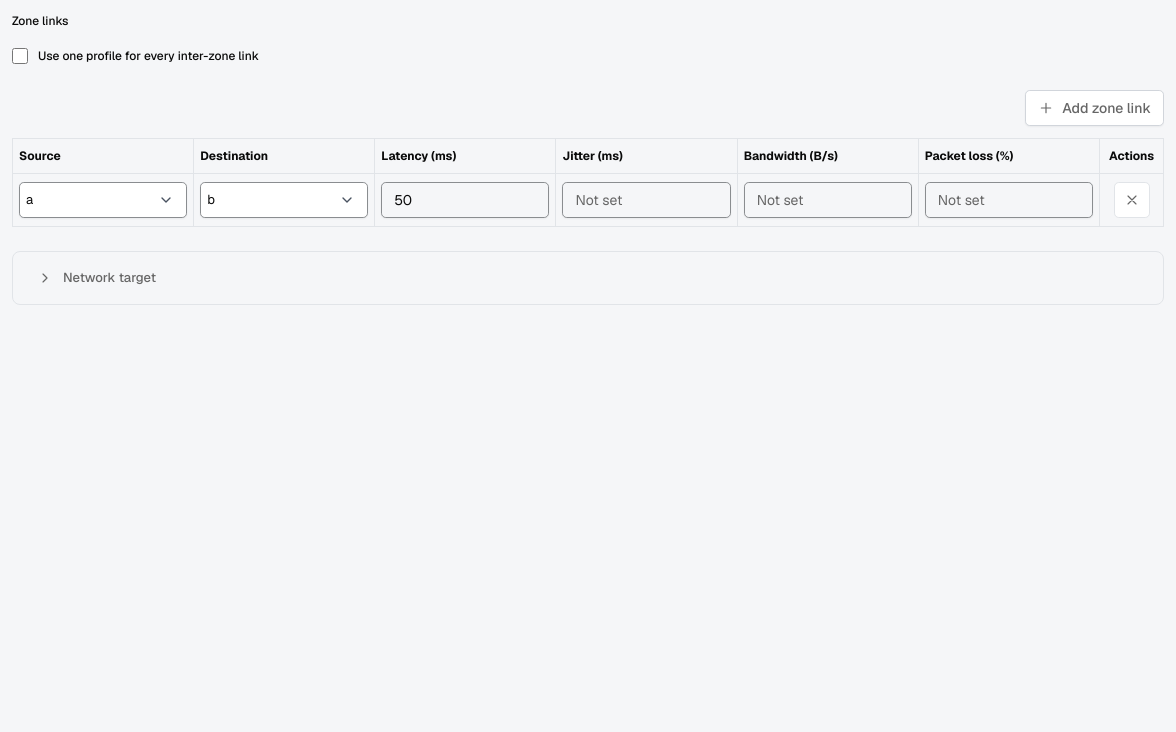
Test: places the host-network toggle in the shared disclosure and preserves its saved value
Click the heading "Network target". click: (96, 278)
box: [37,269,156,286]
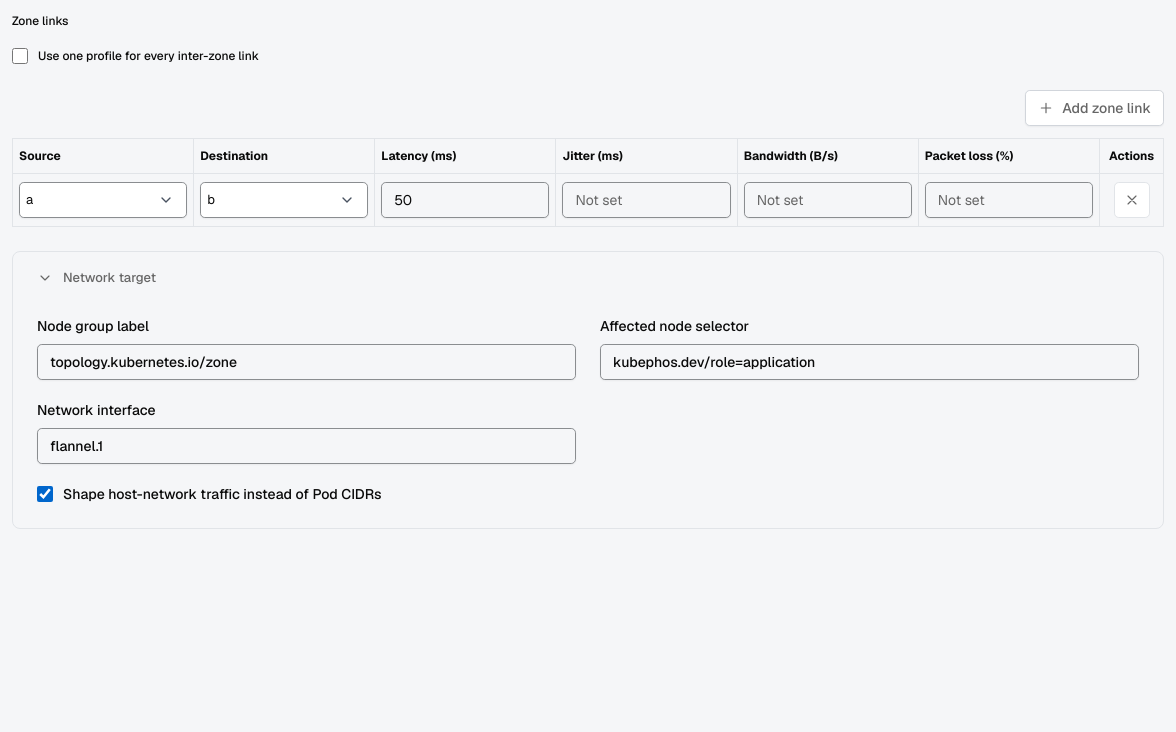
expect the checkbox labelled "Shape host-network traffic instead of Pod CIDRs" is checked: met, box [37,486,53,502]
expect the element named "Shape host-network traffic instead of Pod CIDRs" is shown: met, box [13,304,1163,528]
